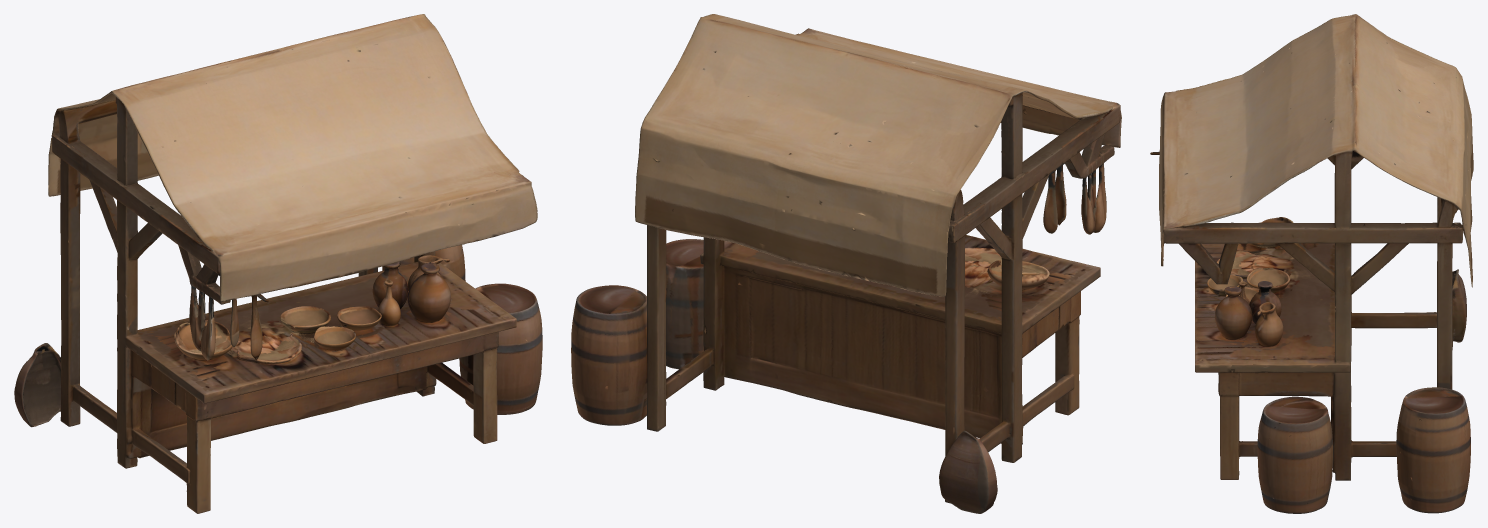
Rendered from Medieval_Market_Stall_0717213130_texture.fbx.
3 renders of one model, left to right at view 1: azimuth 30°, elevation 25°; view 2: azimuth 150°, elevation 25°; view 3: azimuth 270°, elevation 25°, orthographic. The views are drawn at different scales.
Visible parts, largest first — view 1: Mesh_0; view 2: Mesh_0; view 3: Mesh_0.
Boxes of the visible parts, box(x1,y1,x2,y2) form: Mesh_0: box(14, 14, 542, 513); Mesh_0: box(571, 14, 1121, 513); Mesh_0: box(1150, 14, 1473, 513).
Size of the model in its own units: 199 by 166 by 145.
1 material, 1 textured.
